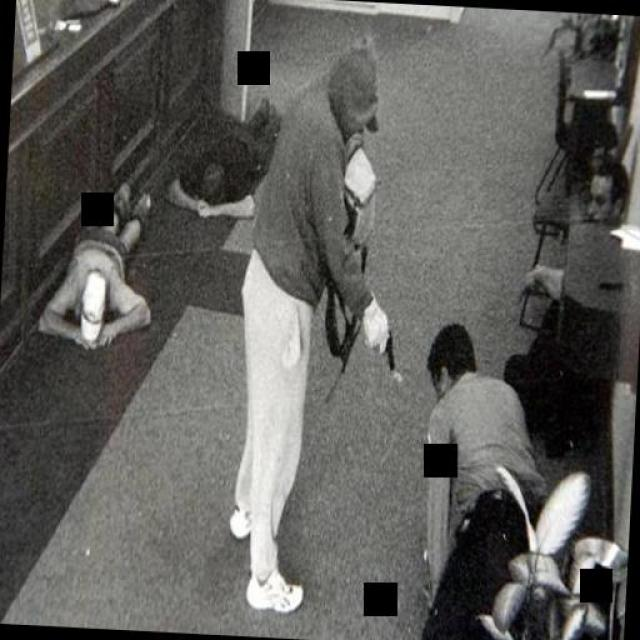gun: (368, 288, 412, 392)
